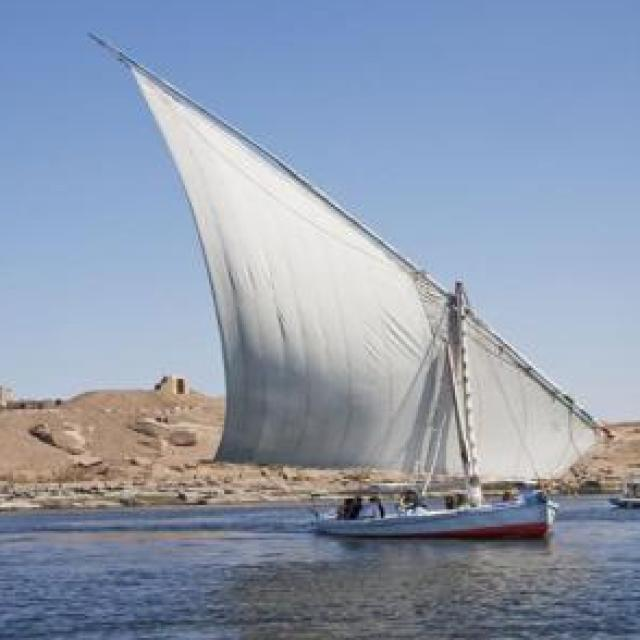passenger ship: (108, 28, 594, 540)
